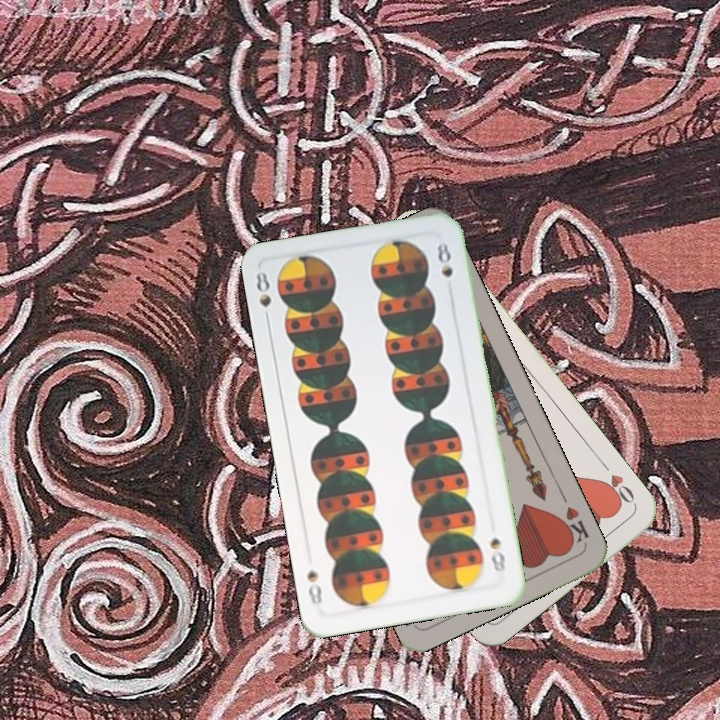HK: (555, 502, 591, 549)
HO: (596, 456, 639, 509)
S8: (252, 267, 274, 326), (485, 534, 508, 575)
